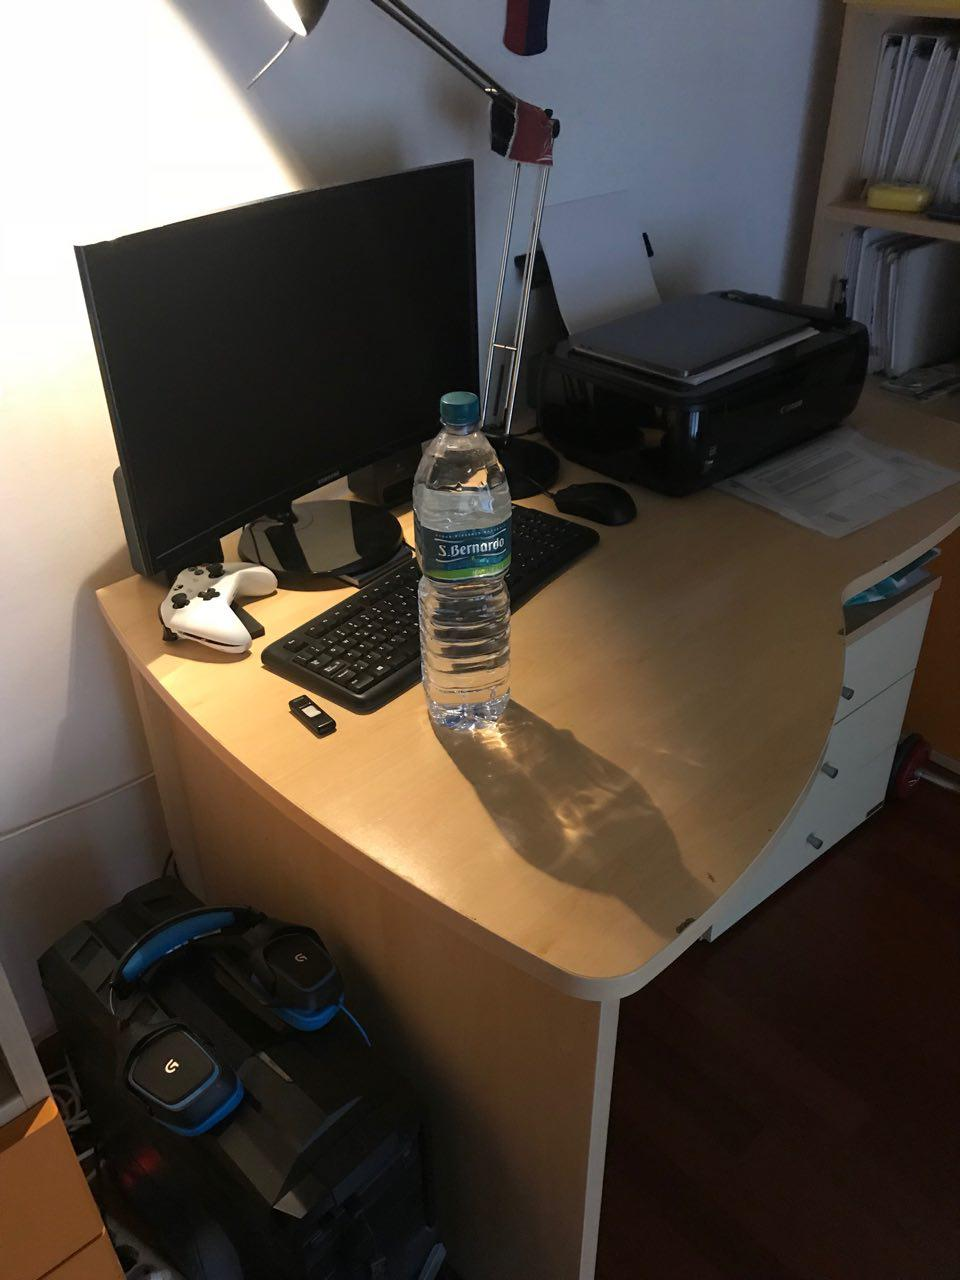san_bernardo: (411, 390, 514, 733)
